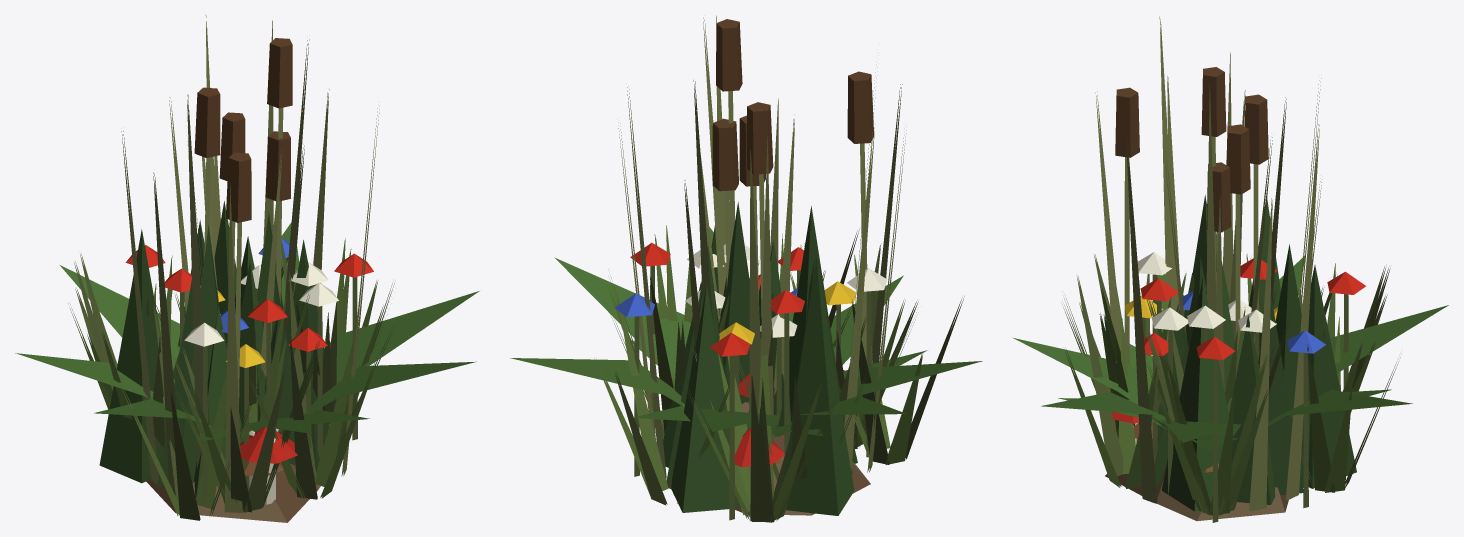
Rendered from natur_boden.glb.
3 renders of one model, left to right at view 1: azimuth 30°, elevation 25°; view 2: azimuth 150°, elevation 25°; view 3: azimuth 270°, elevation 25°, orthographic. The views are drawn at different scales.
Parts seen in each view (by area): view 1: Brennnessel1, Schilf1, Gras3, Farn1, Schilf2, Wildblumen1, Wildblumen2, Brennnessel2, Gras2, Maulwurfshuegel1, Pilze1, Farn2 (+1 smaller); view 2: Schilf1, Brennnessel1, Brennnessel2, Schilf2, Gras3, Farn1, Wildblumen2, Wildblumen1, Gras2, Farn2, Pilze1, Maulwurfshuegel1; view 3: Schilf1, Schilf2, Brennnessel2, Gras3, Wildblumen1, Brennnessel1, Farn1, Wildblumen2, Gras2, Maulwurfshuegel1, Farn2, Gras1.
Part boxes in pixels (<box>): Brennnessel1: <box>99,201,314,497</box>; Schilf1: <box>121,20,379,512</box>; Gras3: <box>91,255,394,520</box>; Farn1: <box>15,222,479,435</box>; Schilf2: <box>169,14,329,468</box>; Wildblumen1: <box>74,238,394,512</box>; Wildblumen2: <box>70,238,345,512</box>; Brennnessel2: <box>178,220,341,481</box>; Gras2: <box>80,240,384,512</box>; Maulwurfshuegel1: <box>146,428,320,522</box>; Pilze1: <box>240,427,297,504</box>; Farn2: <box>199,409,369,441</box>; Schilf1: <box>627,15,906,478</box>; Brennnessel1: <box>666,201,857,515</box>; Brennnessel2: <box>663,206,852,512</box>; Schilf2: <box>618,17,877,441</box>; Gras3: <box>594,225,964,505</box>; Farn1: <box>510,227,982,436</box>; Wildblumen2: <box>611,234,918,522</box>; Wildblumen1: <box>607,242,905,521</box>; Gras2: <box>650,243,916,522</box>; Farn2: <box>631,312,927,436</box>; Pilze1: <box>734,369,844,467</box>; Maulwurfshuegel1: <box>667,402,870,515</box>; Schilf1: <box>1095,52,1322,503</box>; Schilf2: <box>1159,16,1321,511</box>; Brennnessel2: <box>1161,195,1356,511</box>; Gras3: <box>1064,254,1400,515</box>; Wildblumen1: <box>1062,258,1385,522</box>; Brennnessel1: <box>1152,198,1310,494</box>; Farn1: <box>1012,256,1448,442</box>; Wildblumen2: <box>1079,252,1387,515</box>; Gras2: <box>1064,268,1390,515</box>; Maulwurfshuegel1: <box>1105,465,1288,521</box>; Farn2: <box>1058,328,1391,450</box>; Gras1: <box>1146,291,1276,404</box>.
Size of the model in its own units: 1.55 by 1.57 by 1.45.
